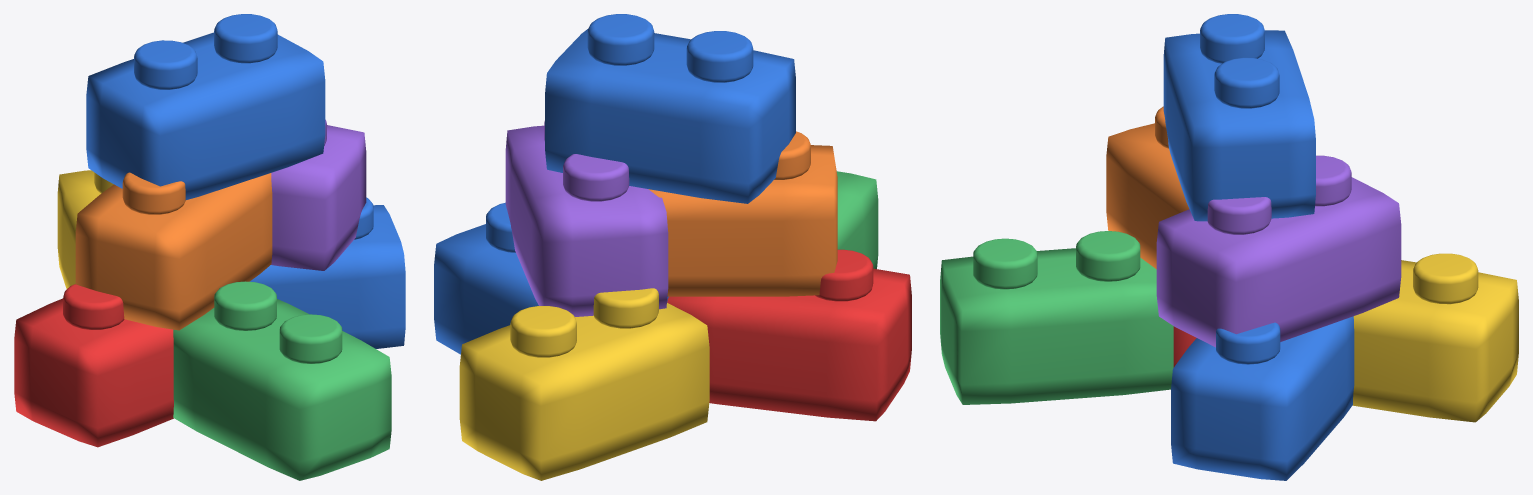
The model's file is BigBadVacuumPile.obj.
3 views of the same model, side by side, from view 1: azimuth 30°, elevation 25°; view 2: azimuth 150°, elevation 25°; view 3: azimuth 270°, elevation 25° (orthographic). The views are drawn at different scales.
Parts seen in each view (by area): view 1: Blue, Green, Orange, Red, Purple, Yellow; view 2: Blue, Yellow, Red, Purple, Orange, Green; view 3: Blue, Green, Purple, Yellow, Orange.
Part boxes in pixels (box(x1,y1,x2,y2)): Blue: box(86, 14, 405, 348); Green: box(173, 281, 391, 480); Orange: box(75, 172, 272, 330); Red: box(14, 284, 173, 447); Purple: box(271, 119, 366, 270); Yellow: box(57, 170, 113, 288); Blue: box(434, 14, 795, 354); Yellow: box(459, 288, 709, 480); Red: box(667, 249, 911, 421); Purple: box(505, 121, 668, 316); Orange: box(648, 131, 837, 296); Green: box(836, 171, 878, 268); Blue: box(1163, 14, 1354, 480); Green: box(940, 231, 1173, 404); Purple: box(1156, 155, 1401, 347); Yellow: box(1352, 253, 1518, 422); Orange: box(1106, 106, 1189, 268).
Bounding box in the file's own units: 7.2 × 5.7 × 8.86.
